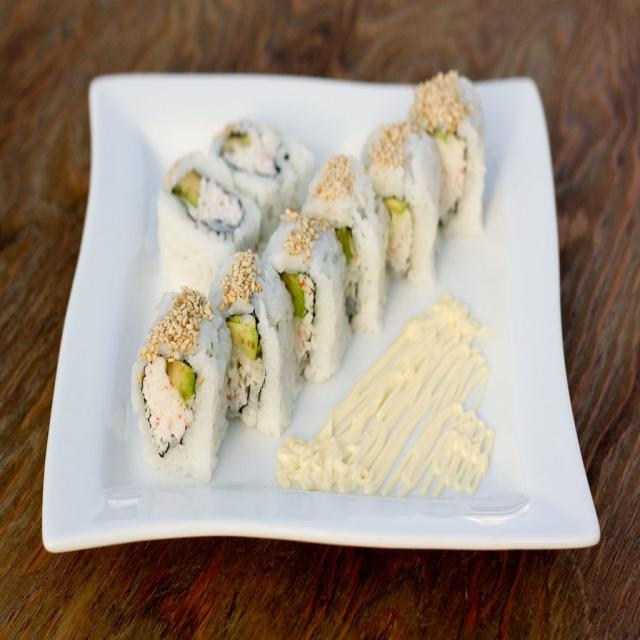ceramic plate: (33, 62, 601, 579)
